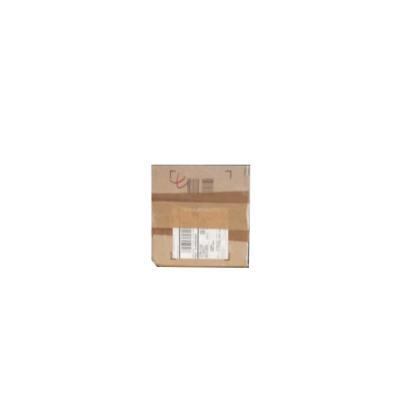package: (149, 166, 249, 265)
